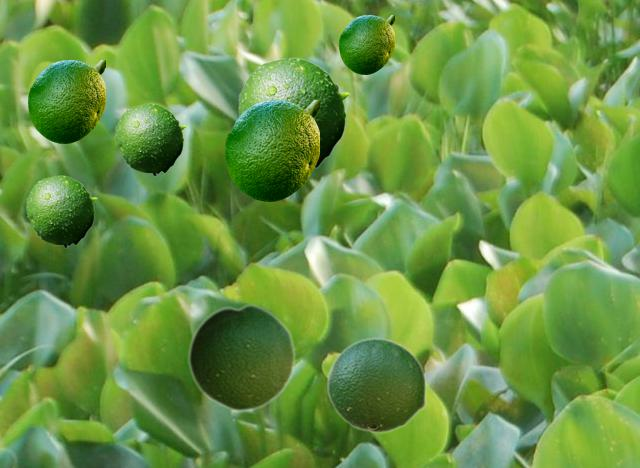dalandan: (238, 57, 349, 168), (187, 302, 295, 412), (326, 337, 426, 433), (225, 100, 318, 200), (28, 60, 104, 142), (26, 175, 96, 247), (115, 103, 185, 175), (339, 15, 393, 73)
